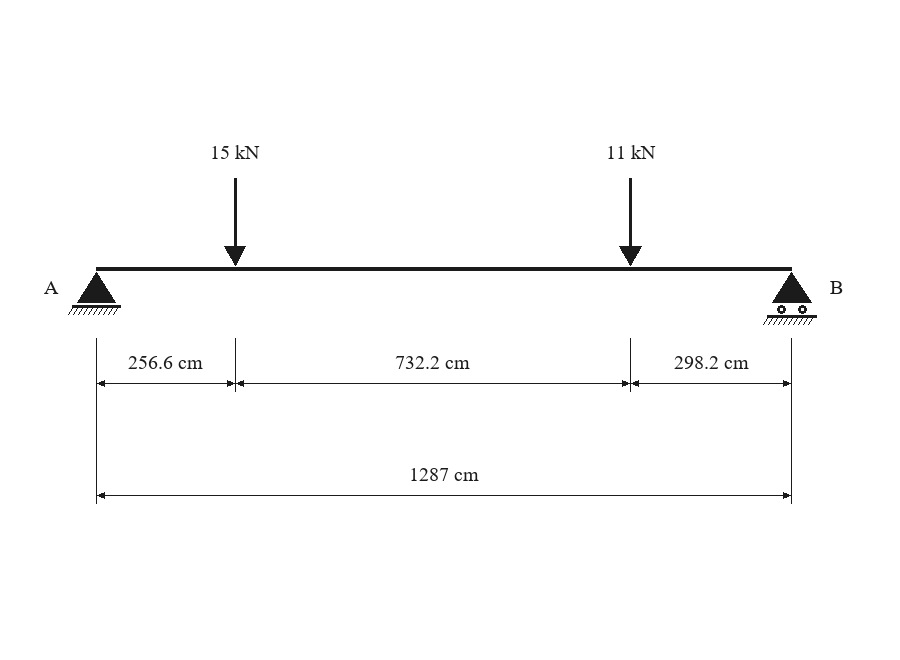pin_support: (68, 272, 121, 315)
point_load: (619, 178, 642, 266), (224, 178, 246, 266)
roller_support: (763, 272, 817, 325)
